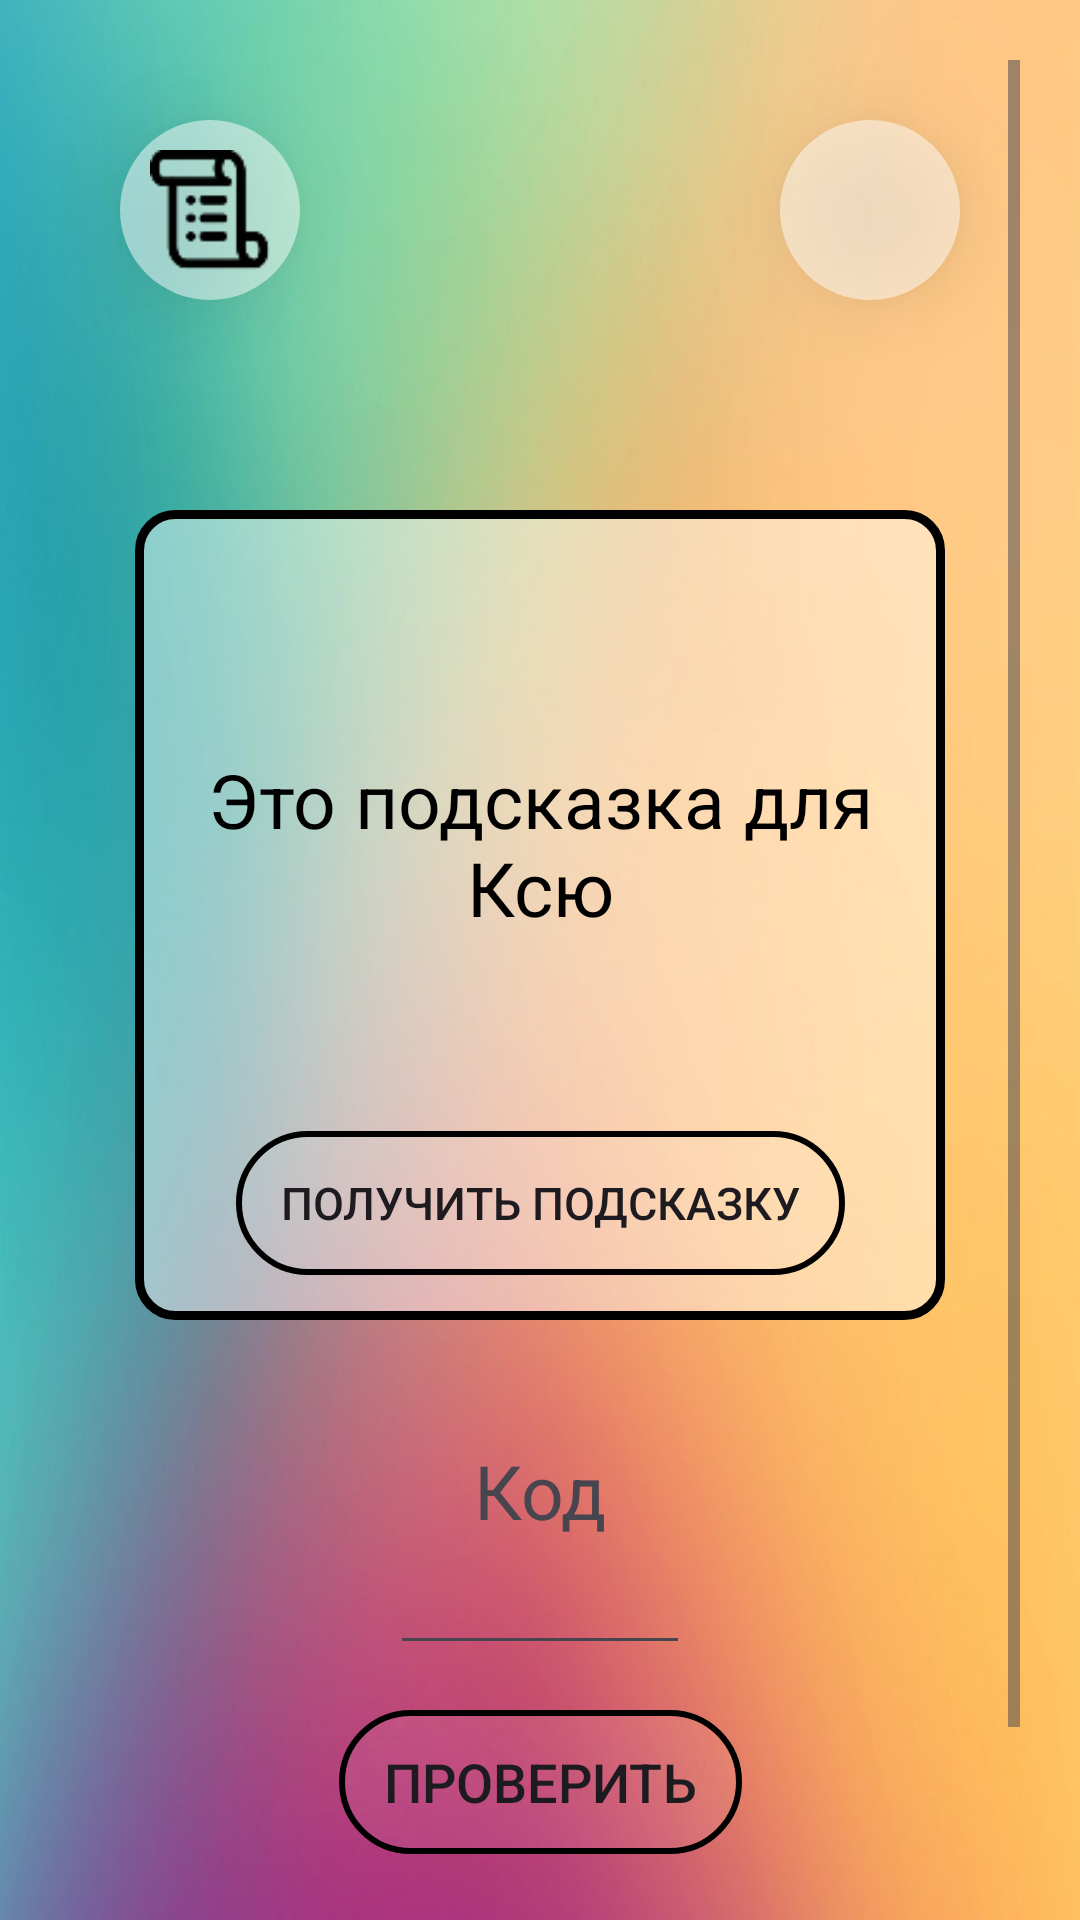

Icon bounding boxes for this 1080x1920 phone screenshot, format (x1, y1, x2, y2):
Кнопка просмотра правил: (150, 150, 269, 269)
